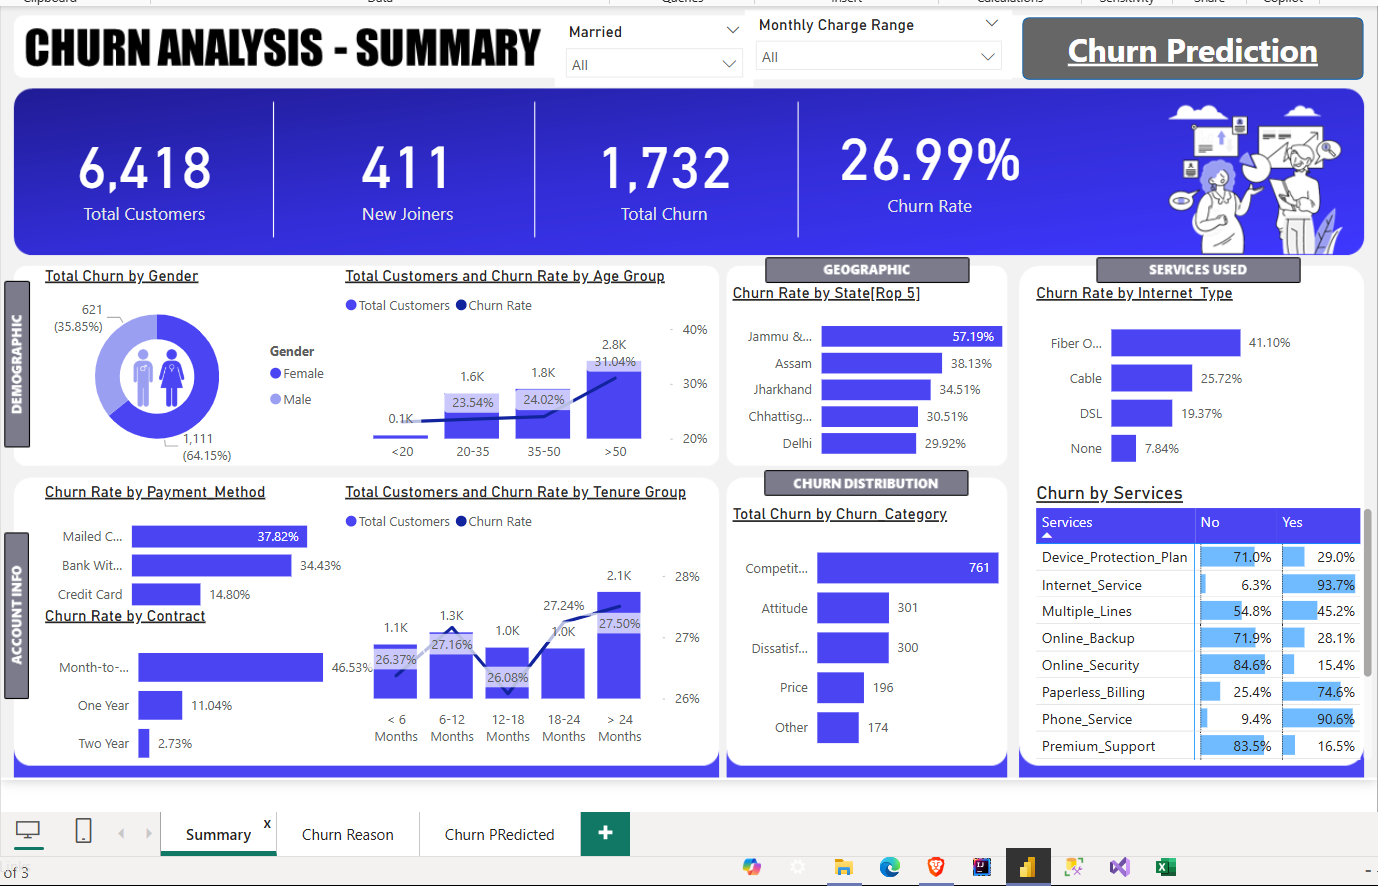

The page's visual inventory and layout, read from the dashboard file:
{"tool":"powerbi","page":{"name":"Summary","canvas":[1280,720],"ordinal":0},"visuals":[{"type":"image","box":[91.9,306,111.1,78.2],"z":0},{"type":"card","fields":{"Values":["Table_measures.Total Customers"]},"box":[9.6,75.5,248.4,157.8],"z":1000},{"type":"card","fields":{"Values":["Table_measures.New Joiners"]},"box":[258,75.5,240.1,157.8],"z":2000},{"type":"card","fields":{"Values":["Table_measures.Total Churn"]},"box":[498.1,75.5,238.8,157.8],"z":3000},{"type":"card","fields":{"Values":["Table_measures.Churn Rate"]},"box":[736.9,75.5,253.9,142.7],"z":4000},{"type":"donutChart","fields":{"Category":["prod_Churn.Gender"],"Y":["Table_measures.Total Churn"]},"box":[35.7,241.5,279.9,189.4],"z":5000},{"type":"lineStackedColumnComboChart","fields":{"Category":["mapping_agegroup.Age Group"],"Y":["Table_measures.Total Customers"],"Y2":["Table_measures.Churn Rate"]},"box":[315.6,241.5,347.2,190.7],"z":6000},{"type":"clusteredBarChart","fields":{"Category":["prod_Churn.Payment_Method"],"Y":["Table_measures.Churn Rate"]},"box":[35.7,443.2,293.7,131.7],"z":7000},{"type":"clusteredBarChart","fields":{"Category":["prod_Churn.Contract"],"Y":["Table_measures.Churn Rate"]},"box":[35.7,558.5,315.6,161.9],"z":8000},{"type":"lineStackedColumnComboChart","fields":{"Category":["mapping_tenuregrp.Tenure Group"],"Y":["Table_measures.Total Customers"],"Y2":["Table_measures.Churn Rate"]},"box":[315.6,443.2,340.3,252.5],"z":9000},{"type":"clusteredBarChart","title":"Churn Rate by State[Rop 5]","fields":{"Category":["prod_Churn.State"],"Y":["Table_measures.Churn Rate"]},"box":[675.1,258,300.5,174.3],"z":10000},{"type":"clusteredBarChart","fields":{"Category":["prod_Churn.Churn_Category"],"Y":["Table_measures.Total Churn"]},"box":[675.1,463.8,282.7,242.9],"z":11000},{"type":"clusteredBarChart","fields":{"Category":["prod_Churn.Internet_Type"],"Y":["Table_measures.Churn Rate"]},"box":[957.8,258,248.4,185.2],"z":12000},{"type":"pivotTable","title":"Churn by Services","fields":{"Rows":["prod_services.Services"],"Columns":["prod_services.Status"],"Values":["Sum(prod_services.Churn Status)"]},"box":[957.8,443.2,322.5,263.5],"z":13000},{"type":"slicer","fields":{"Values":["prod_Churn.Monthly Charge Status"]},"box":[691.9,3.5,248.8,65.1],"z":14000},{"type":"slicer","fields":{"Values":["prod_Churn.Married"]},"box":[515.1,10.5,184.9,65.1],"z":15000},{"type":"shape","box":[950,10.5,317.4,58.1],"z":15002}]}

Visuals, with their boxes on the page's 1280x720 design canvas (x1, y1, x2, y2). These are canvas units, not pixel positions in the 1378x886 screenshot, which may show the page scaled, cropped or inside an application window:
image: <box>92,306,203,384</box>
card - Table_measures.Total Customers: <box>10,76,258,233</box>
card - Table_measures.New Joiners: <box>258,76,498,233</box>
card - Table_measures.Total Churn: <box>498,76,737,233</box>
card - Table_measures.Churn Rate: <box>737,76,991,218</box>
donutChart - prod_Churn.Gender x Table_measures.Total Churn: <box>36,242,316,431</box>
lineStackedColumnComboChart - mapping_agegroup.Age Group x Table_measures.Total Customers: <box>316,242,663,432</box>
clusteredBarChart - prod_Churn.Payment_Method x Table_measures.Churn Rate: <box>36,443,329,575</box>
clusteredBarChart - prod_Churn.Contract x Table_measures.Churn Rate: <box>36,558,351,720</box>
lineStackedColumnComboChart - mapping_tenuregrp.Tenure Group x Table_measures.Total Customers: <box>316,443,656,696</box>
"Churn Rate by State[Rop 5]" clusteredBarChart: <box>675,258,976,432</box>
clusteredBarChart - prod_Churn.Churn_Category x Table_measures.Total Churn: <box>675,464,958,707</box>
clusteredBarChart - prod_Churn.Internet_Type x Table_measures.Churn Rate: <box>958,258,1206,443</box>
"Churn by Services" pivotTable: <box>958,443,1280,707</box>
slicer - prod_Churn.Monthly Charge Status: <box>692,4,941,69</box>
slicer - prod_Churn.Married: <box>515,10,700,76</box>
shape: <box>950,10,1267,69</box>
